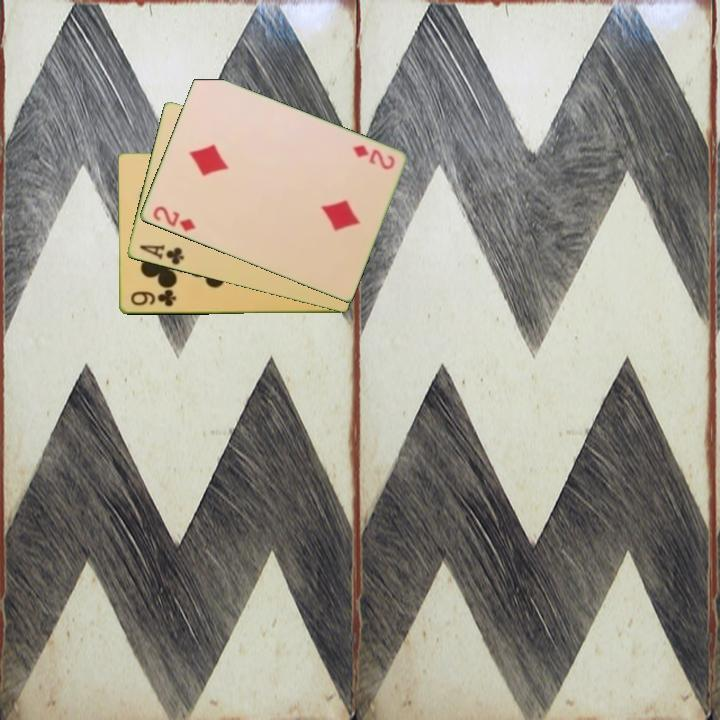2d: (149, 202, 198, 234), (349, 141, 397, 173)
9c: (127, 288, 179, 310)
Ac: (136, 241, 186, 268)
